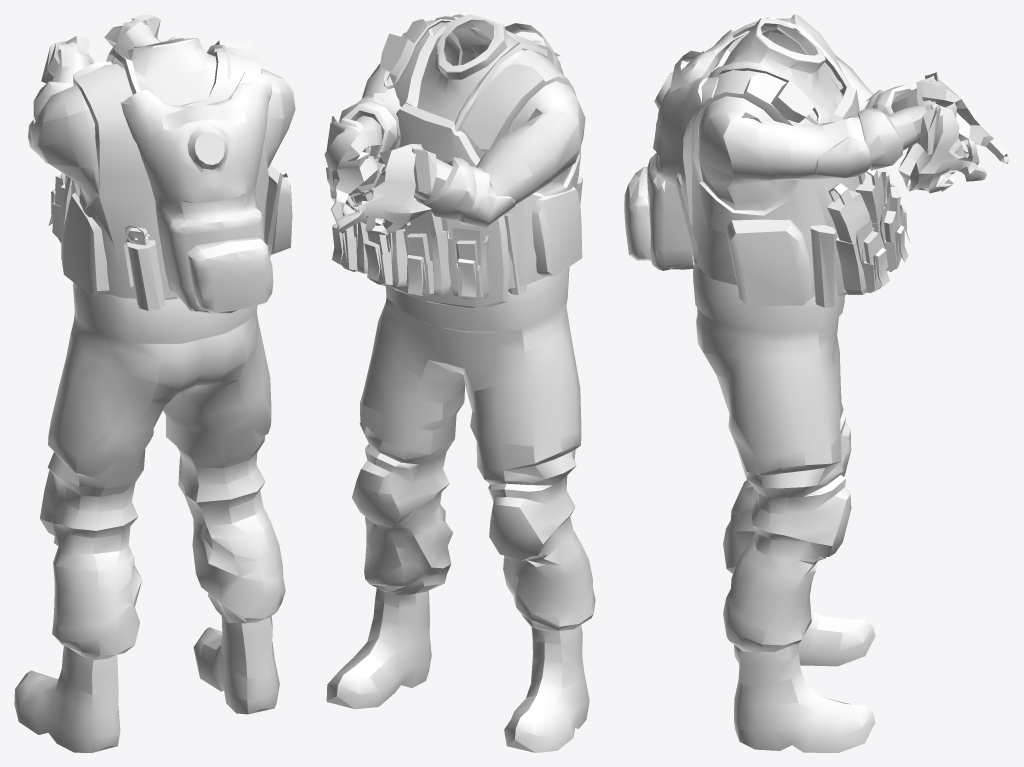
The model's file is stf_pistol.glb.
3 views of the same model, side by side, from view 1: azimuth 30°, elevation 25°; view 2: azimuth 150°, elevation 25°; view 3: azimuth 270°, elevation 25° (orthographic).
Parts seen in each view (by area): view 1: body_STF, gear_STF; view 2: body_STF, gear_STF; view 3: body_STF, gear_STF.
Part boxes in pixels (left/top/right/bottom): body_STF: left=14, top=14, right=295, bottom=752; gear_STF: left=48, top=40, right=292, bottom=313; body_STF: left=324, top=14, right=595, bottom=752; gear_STF: left=332, top=14, right=582, bottom=299; body_STF: left=686, top=14, right=1009, bottom=752; gear_STF: left=624, top=17, right=910, bottom=307.
Bounding box in the file's own units: 57.64 × 164 × 84.94.
Materials: 2 (2 with a texture image).
